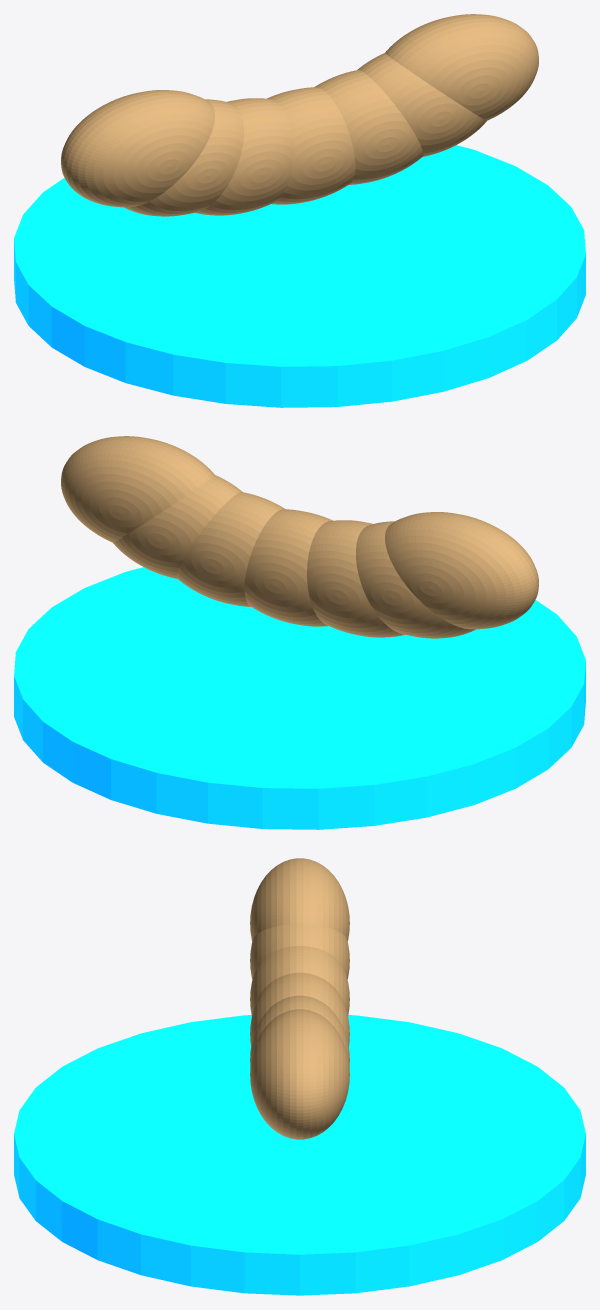
File: french_croissant.glb
3 renders of one model, top to bottom at view 1: azimuth 30°, elevation 25°; view 2: azimuth 150°, elevation 25°; view 3: azimuth 270°, elevation 25°, orthographic.
Parts seen in each view (by area): view 1: 10_03_Popular_French_Croissant_ROOT_base, 10_03_Popular_French_Croissant_part_01, 10_03_Popular_French_Croissant_part_07, 10_03_Popular_French_Croissant_part_04, 10_03_Popular_French_Croissant_part_05, 10_03_Popular_French_Croissant_part_03, 10_03_Popular_French_Croissant_part_06, 10_03_Popular_French_Croissant_part_02; view 2: 10_03_Popular_French_Croissant_ROOT_base, 10_03_Popular_French_Croissant_part_01, 10_03_Popular_French_Croissant_part_07, 10_03_Popular_French_Croissant_part_04, 10_03_Popular_French_Croissant_part_05, 10_03_Popular_French_Croissant_part_03, 10_03_Popular_French_Croissant_part_06, 10_03_Popular_French_Croissant_part_02; view 3: 10_03_Popular_French_Croissant_ROOT_base, 10_03_Popular_French_Croissant_part_07, 10_03_Popular_French_Croissant_part_01, 10_03_Popular_French_Croissant_part_03, 10_03_Popular_French_Croissant_part_02, 10_03_Popular_French_Croissant_part_04, 10_03_Popular_French_Croissant_part_05.
Boxes of the visible parts, box(x1,y1,x2,y2) form: 10_03_Popular_French_Croissant_ROOT_base: box(14, 145, 585, 407); 10_03_Popular_French_Croissant_part_01: box(61, 90, 214, 207); 10_03_Popular_French_Croissant_part_07: box(385, 14, 538, 120); 10_03_Popular_French_Croissant_part_04: box(267, 87, 355, 204); 10_03_Popular_French_Croissant_part_05: box(314, 70, 423, 184); 10_03_Popular_French_Croissant_part_03: box(195, 98, 292, 215); 10_03_Popular_French_Croissant_part_06: box(357, 53, 486, 156); 10_03_Popular_French_Croissant_part_02: box(124, 99, 243, 216); 10_03_Popular_French_Croissant_ROOT_base: box(14, 567, 585, 829); 10_03_Popular_French_Croissant_part_01: box(385, 512, 538, 629); 10_03_Popular_French_Croissant_part_07: box(61, 436, 214, 542); 10_03_Popular_French_Croissant_part_04: box(244, 509, 332, 626); 10_03_Popular_French_Croissant_part_05: box(176, 492, 285, 606); 10_03_Popular_French_Croissant_part_03: box(307, 520, 404, 637); 10_03_Popular_French_Croissant_part_06: box(113, 475, 242, 578); 10_03_Popular_French_Croissant_part_02: box(356, 521, 475, 638); 10_03_Popular_French_Croissant_ROOT_base: box(14, 1015, 585, 1295); 10_03_Popular_French_Croissant_part_07: box(250, 1009, 349, 1139); 10_03_Popular_French_Croissant_part_01: box(250, 858, 349, 941); 10_03_Popular_French_Croissant_part_03: box(250, 946, 349, 1015); 10_03_Popular_French_Croissant_part_02: box(250, 924, 349, 979); 10_03_Popular_French_Croissant_part_04: box(250, 972, 349, 1046); 10_03_Popular_French_Croissant_part_05: box(250, 995, 349, 1065).
Size of the model in its own units: 0.76 by 0.3342 by 0.76.
